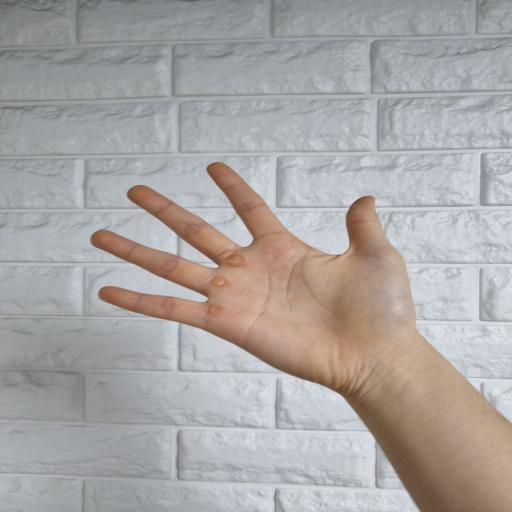Paper: (89, 161, 416, 387)
